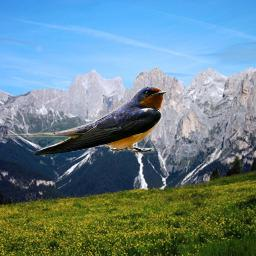Swallow: (0, 84, 167, 156)
